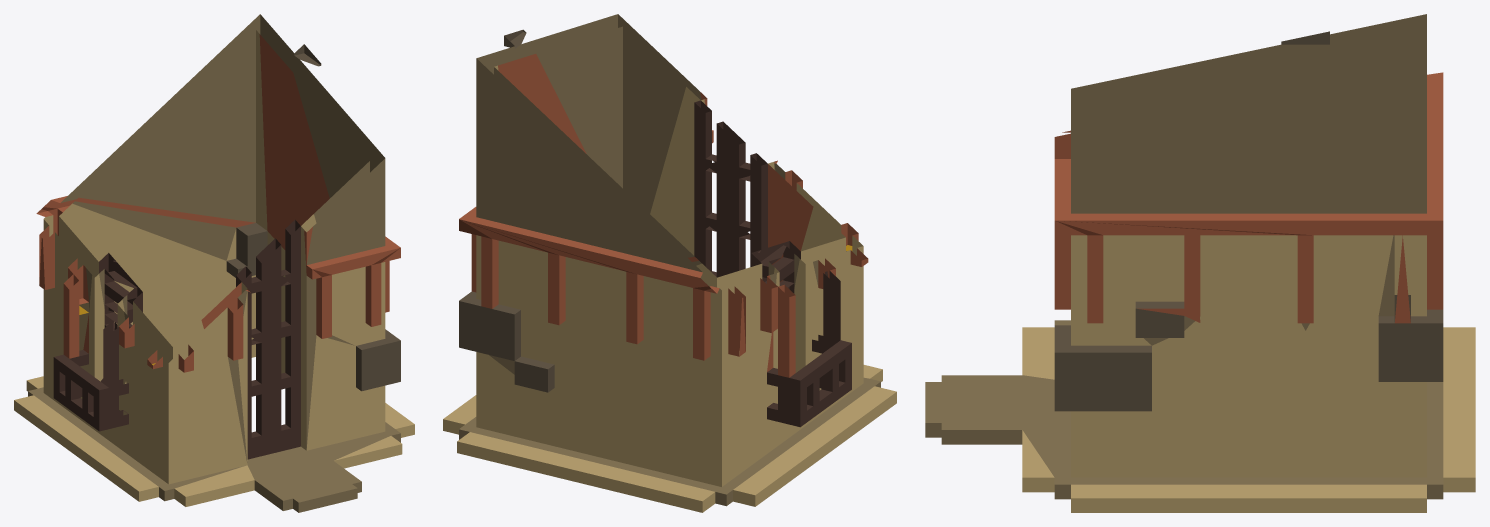
The model's file is tallBuilding_02_bottom.obj.
The picture shows the model from 3 angles, left to right: view 1: azimuth 30°, elevation 25°; view 2: azimuth 150°, elevation 25°; view 3: azimuth 270°, elevation 25°; orthographic projection. The views are drawn at different scales.
Visible parts, largest first — view 1: Untitled; view 2: Untitled; view 3: Untitled.
Part boxes in pixels (bbox=[...]): Untitled: bbox=[14, 14, 414, 512]; Untitled: bbox=[443, 14, 896, 512]; Untitled: bbox=[925, 14, 1475, 512].
Bounding box in the file's own units: 2.8 × 3.26 × 3.4.
